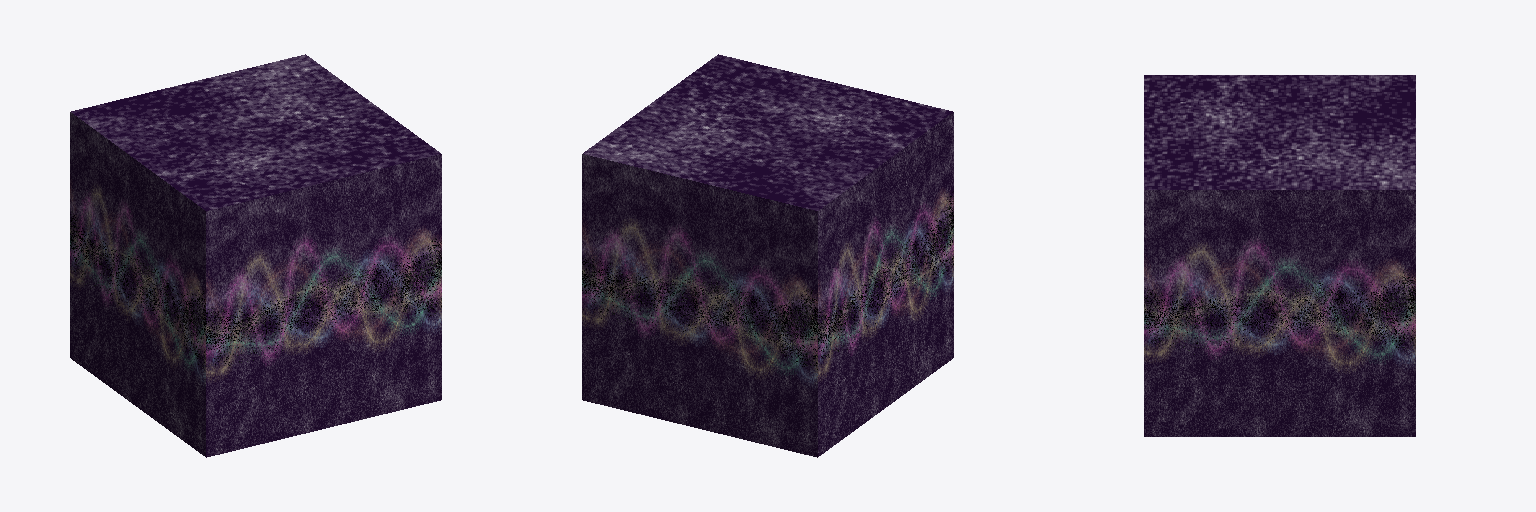
3 renders of one model, left to right at view 1: azimuth 30°, elevation 25°; view 2: azimuth 150°, elevation 25°; view 3: azimuth 270°, elevation 25°, orthographic.
Parts seen in each view (by area): view 1: 立方体; view 2: 立方体; view 3: 立方体.
Part boxes in pixels (x1,y1,x2,y2): 立方体: (70,54,441,457); 立方体: (582,54,953,457); 立方体: (1144,75,1415,436).
Size of the model in its own units: 2 by 2 by 2.
1 materials, 1 textured.